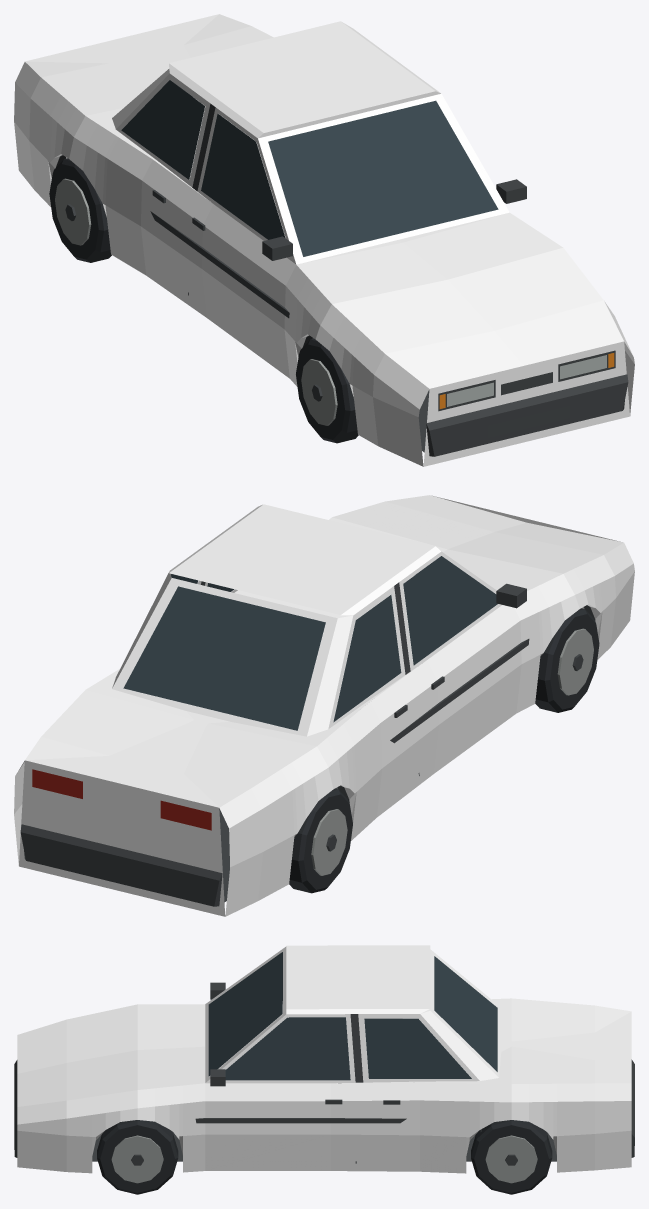
File: kanaya_yamakaze_s.glb
The picture shows the model from 3 angles, top to bottom: view 1: azimuth 30°, elevation 25°; view 2: azimuth 150°, elevation 25°; view 3: azimuth 270°, elevation 25°; orthographic projection. The views are drawn at different scales.
Parts seen in each view (by area): view 1: kanaya_yamakaze_s; view 2: kanaya_yamakaze_s; view 3: kanaya_yamakaze_s.
Part boxes in pixels (<box>): kanaya_yamakaze_s: <box>14,14,634,466</box>; kanaya_yamakaze_s: <box>14,495,634,916</box>; kanaya_yamakaze_s: <box>14,945,634,1194</box>.
Bounding box in the file's own units: 1.8 × 1.48 × 4.83.
Materials: 8 (1 with a texture image).
